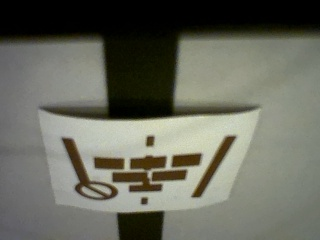Clearing_Zone: (58, 135, 238, 205)
